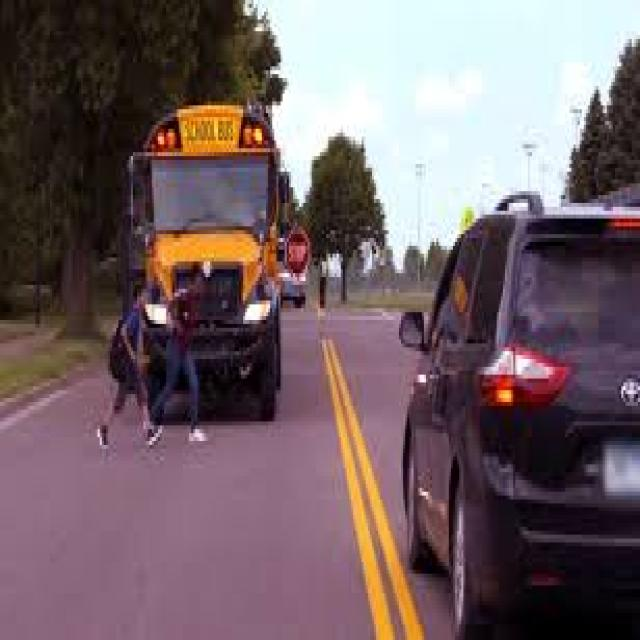car: (399, 195, 638, 640)
person: (152, 293, 204, 441), (100, 297, 148, 449)
truck: (145, 105, 278, 418)
